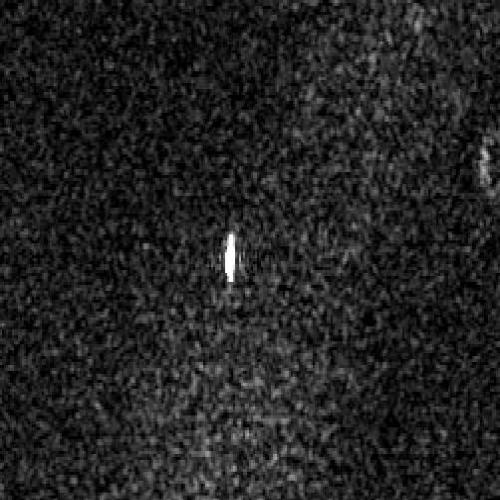ship: (224, 230, 237, 282)
